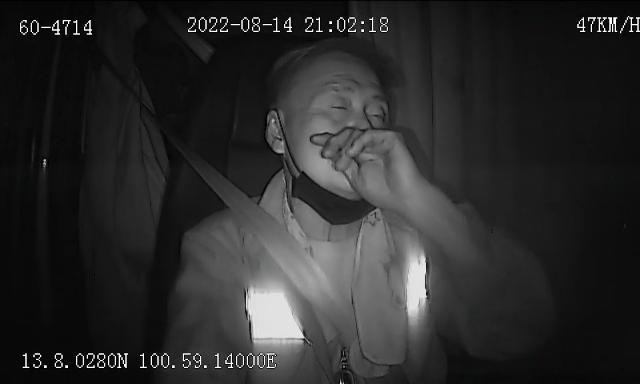Seatbelt: (190, 153, 358, 341)
